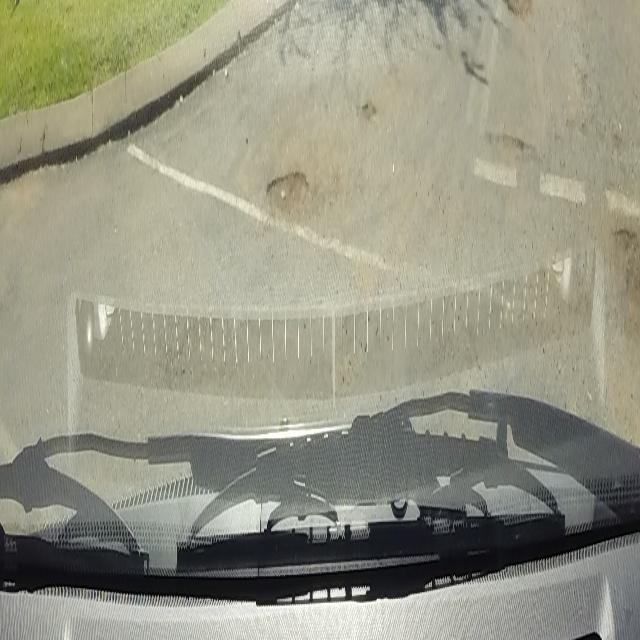pothole: (609, 221, 640, 301), (265, 165, 310, 215)
